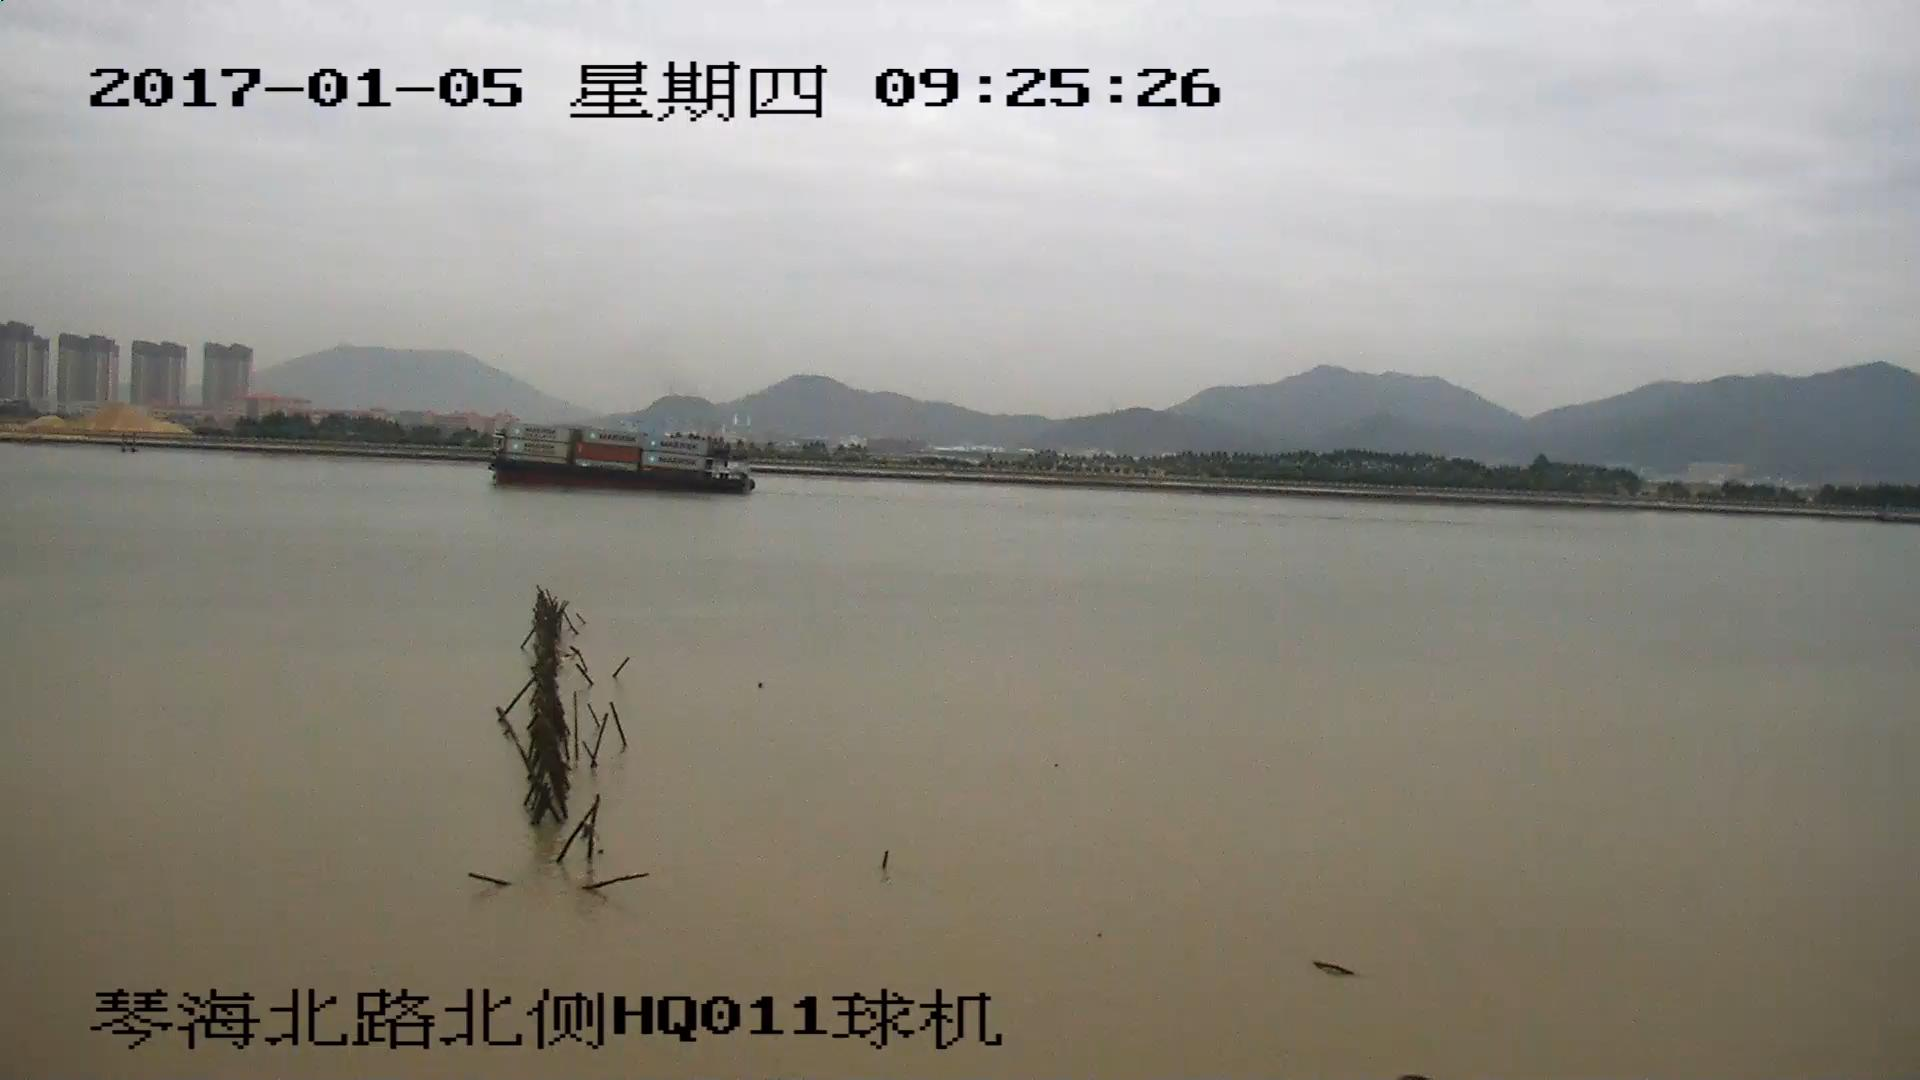container ship: (488, 426, 751, 494)
